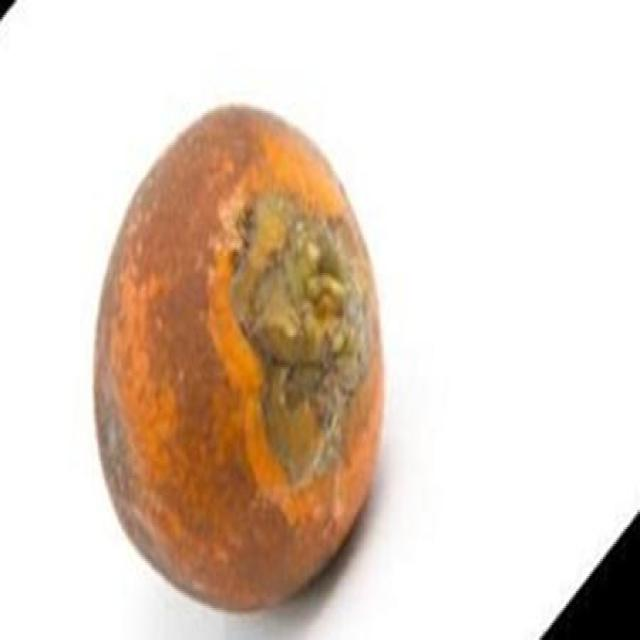good: (91, 109, 387, 614)
